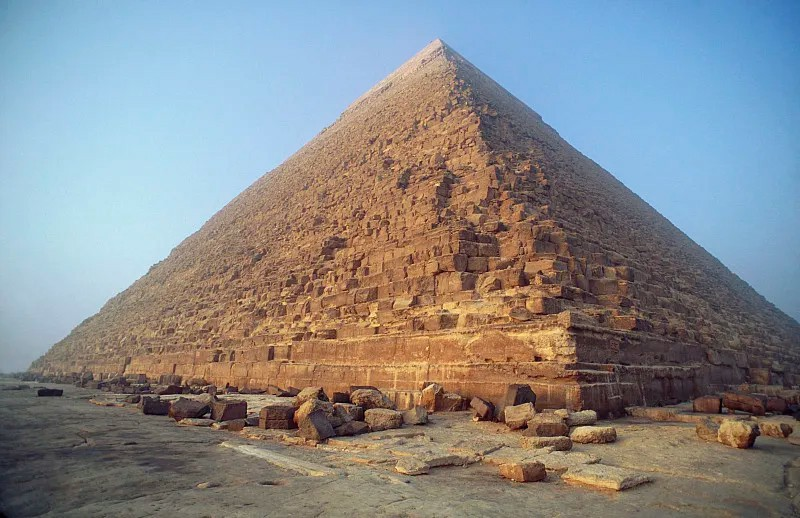Pyramid: (28, 41, 800, 422)
